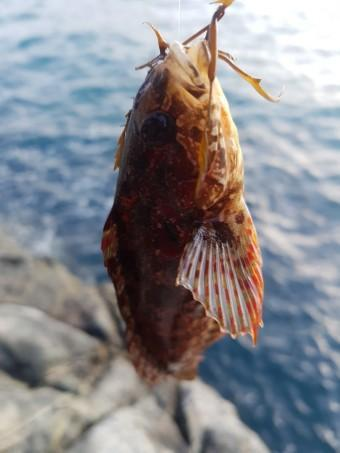fish: (101, 32, 262, 381)
